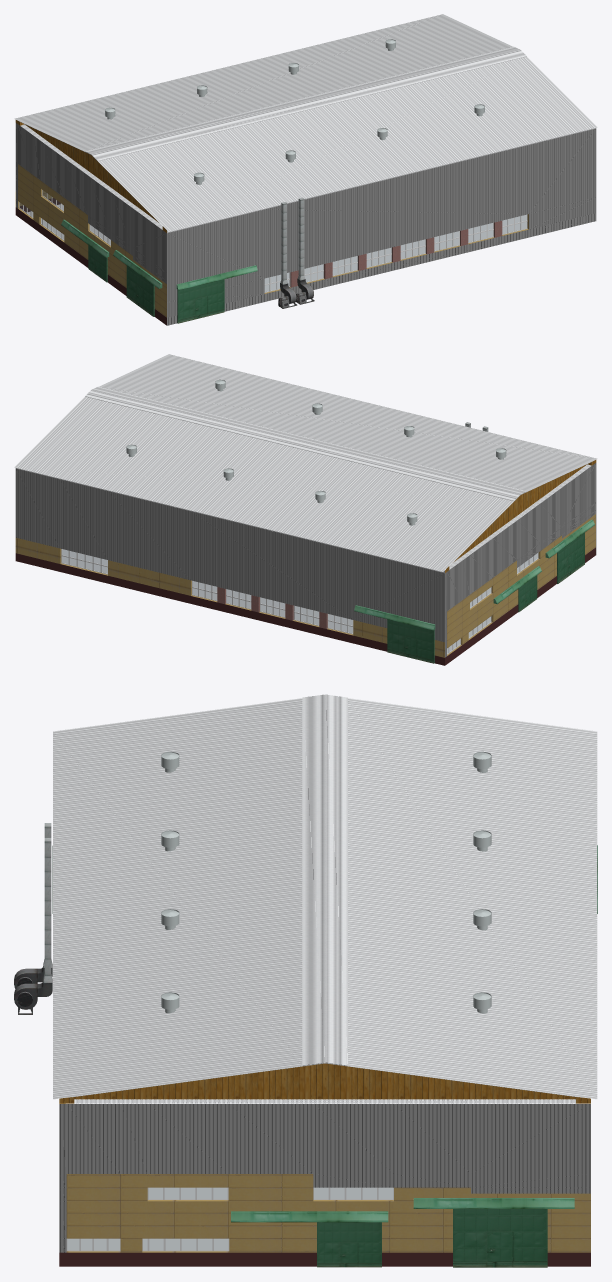
Rendered from industrial_building_1.FBX.
The picture shows the model from 3 angles, top to bottom: view 1: azimuth 30°, elevation 25°; view 2: azimuth 150°, elevation 25°; view 3: azimuth 270°, elevation 25°; orthographic projection. The views are drawn at different scales.
Parts seen in each view (by area): view 1: industrial building 1; view 2: industrial building 1; view 3: industrial building 1.
Part boxes in pixels (x1,y1,x2,y2): industrial building 1: [14, 14, 597, 325]; industrial building 1: [14, 354, 597, 665]; industrial building 1: [14, 694, 597, 1267].
Bounding box in the file's own units: 1548 × 394 × 1021.
Materials: 13 (9 with a texture image).
